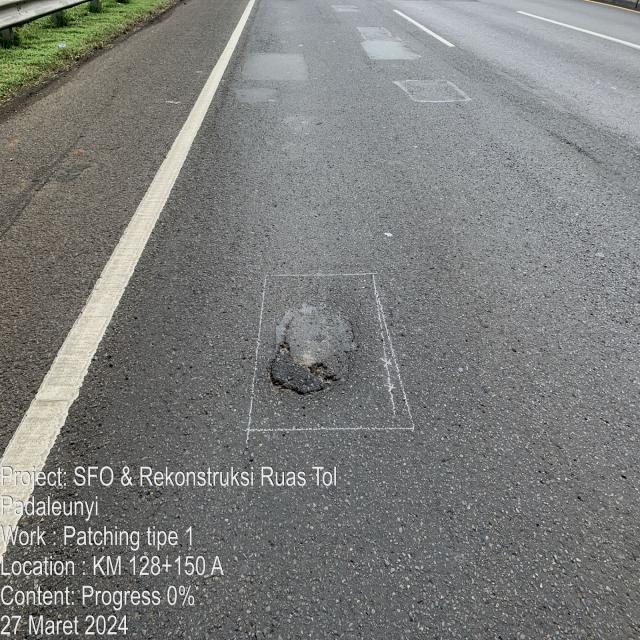Buraco: (263, 299, 363, 404)
